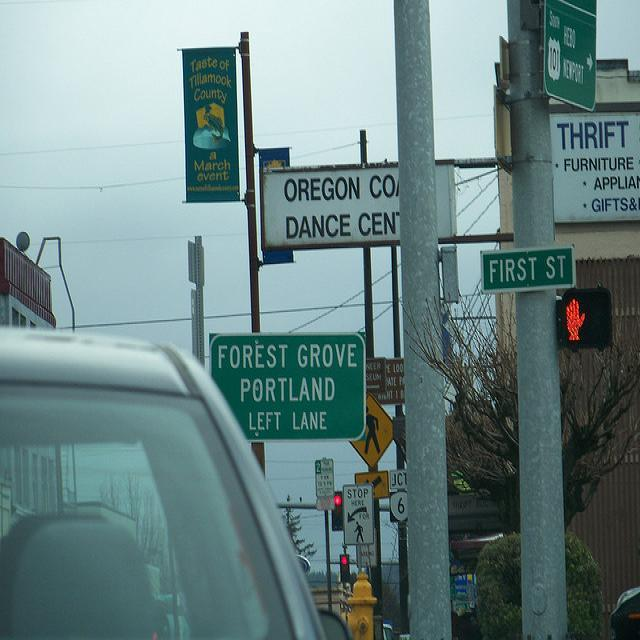fire_hydrant: (343, 569, 376, 640)
